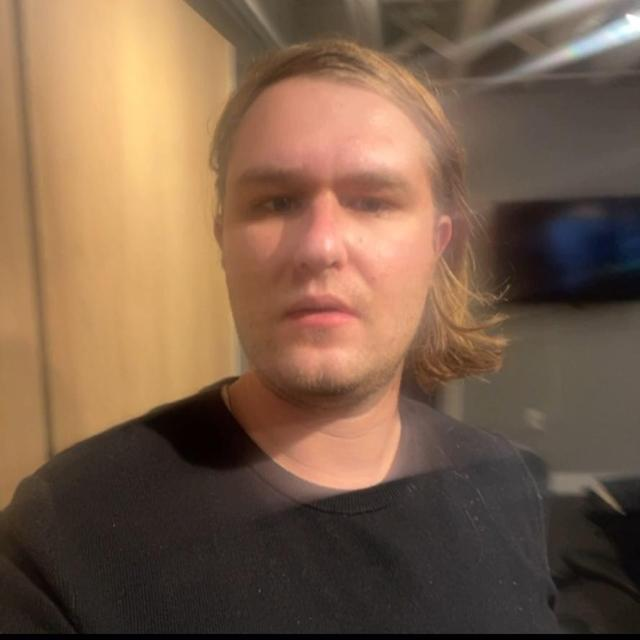no-helmet: (184, 9, 517, 505)
